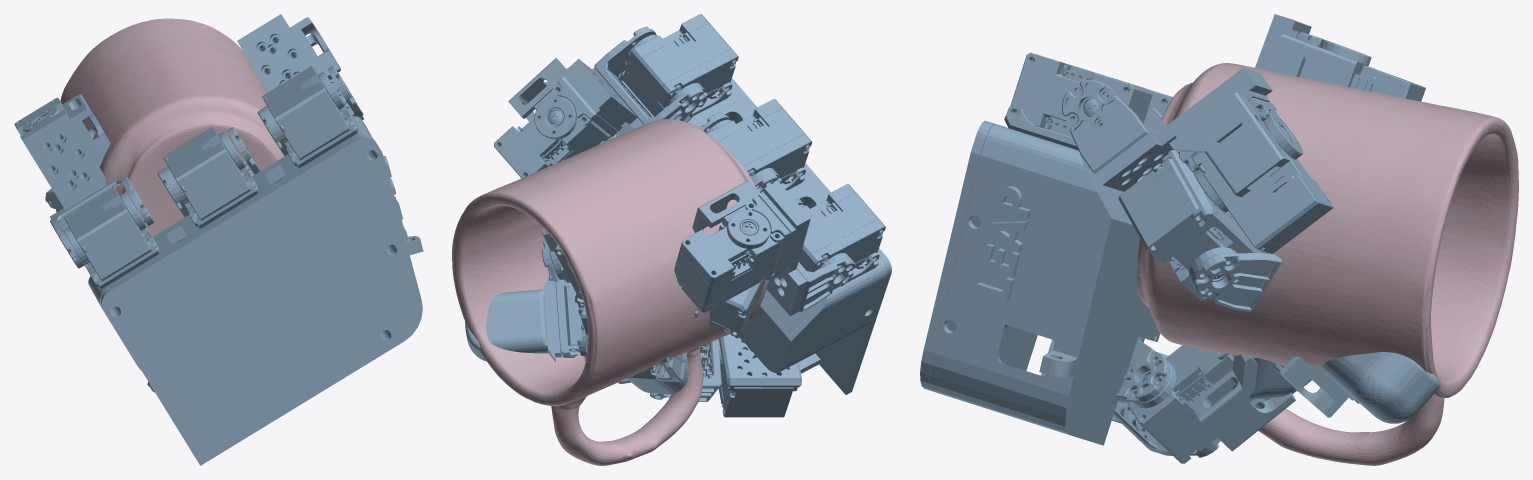
The picture shows the model from 3 angles, left to right: view 1: azimuth 30°, elevation 25°; view 2: azimuth 150°, elevation 25°; view 3: azimuth 270°, elevation 25°; orthographic projection. The views are drawn at different scales.
Parts seen in each view (by area): view 1: world, obj_mesh_grasp_0.obj; view 2: world, obj_mesh_grasp_0.obj; view 3: world, obj_mesh_grasp_0.obj.
Part boxes in pixels (x1,y1,x2,y2): world: (14,14,423,465); obj_mesh_grasp_0.obj: (60,18,284,236); world: (465,14,891,417); obj_mesh_grasp_0.obj: (452,119,767,465); world: (920,14,1440,463); obj_mesh_grasp_0.obj: (1137,63,1518,465).
Size of the model in its own units: 0.1422 by 0.1475 by 0.1748.
